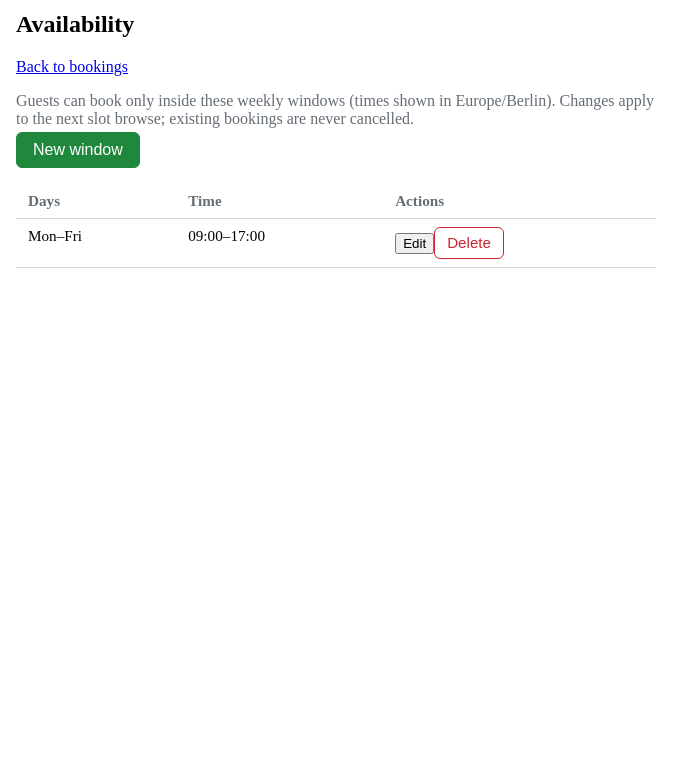
it: HostAvailabilityPage › PUTs the edited window and refreshes the list
Expected: the text "Mon–Fri" is shown, [16, 218, 176, 267]
Click the button "Edit".
click(415, 244)  # box [395, 233, 434, 254]
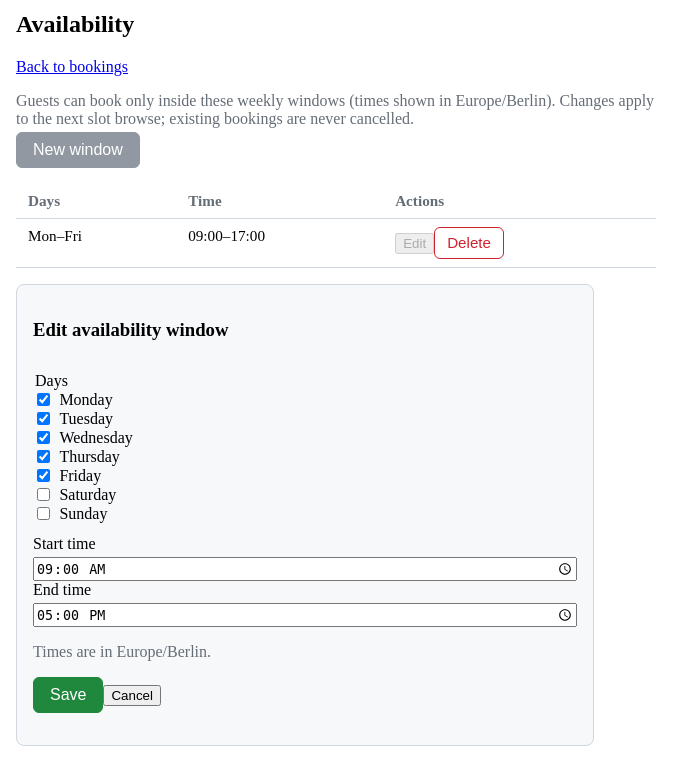
Replace the text in the time field labelled "End time" with "18:00" at point(305, 615), box [33, 603, 577, 627]
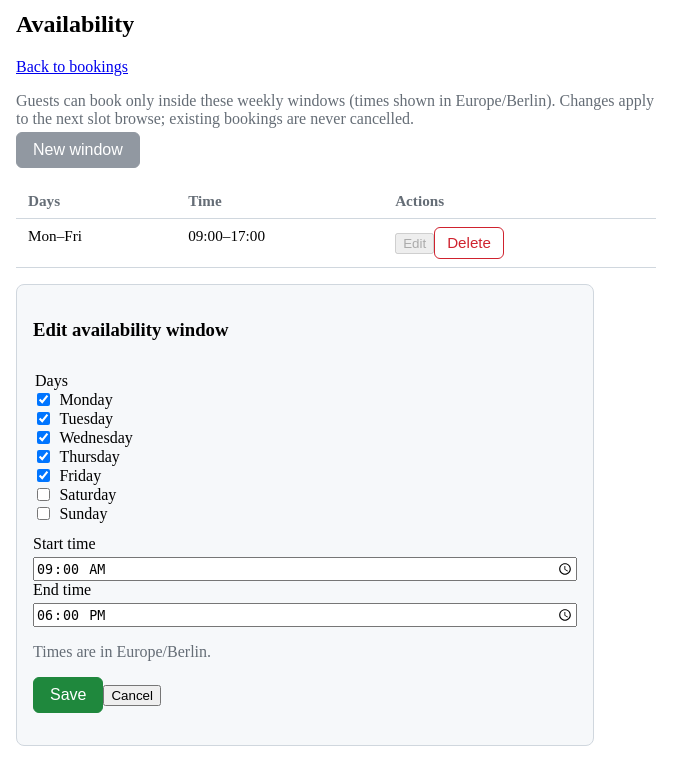
Click the button "Save".
click(68, 695)  # box [33, 677, 104, 713]
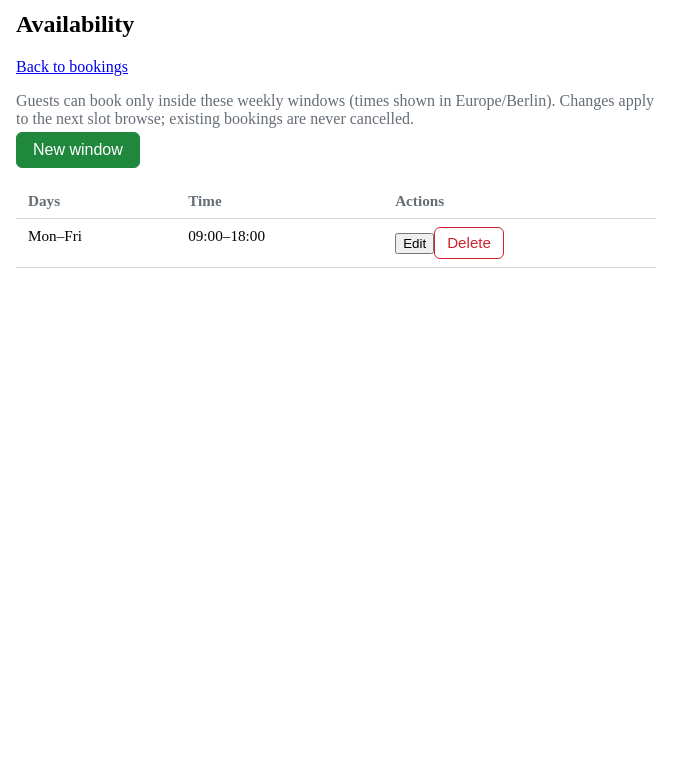
Result: the text "09:00–18:00" is shown at [176, 218, 383, 267]
